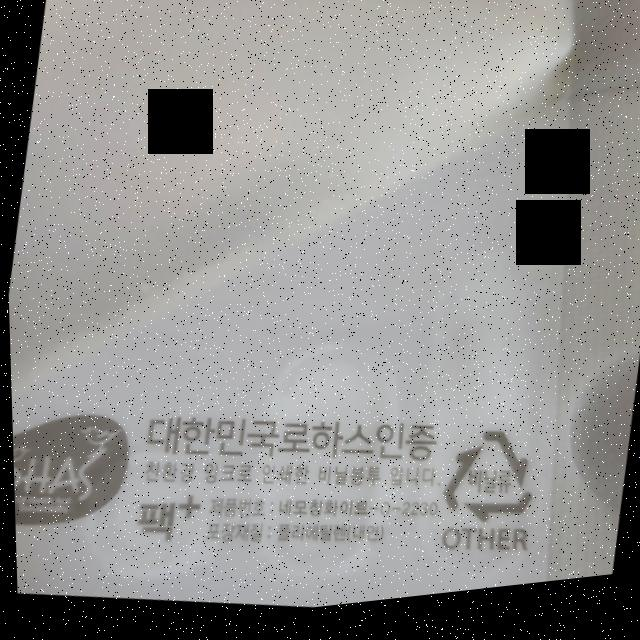Vinyl: (431, 424, 544, 545)
